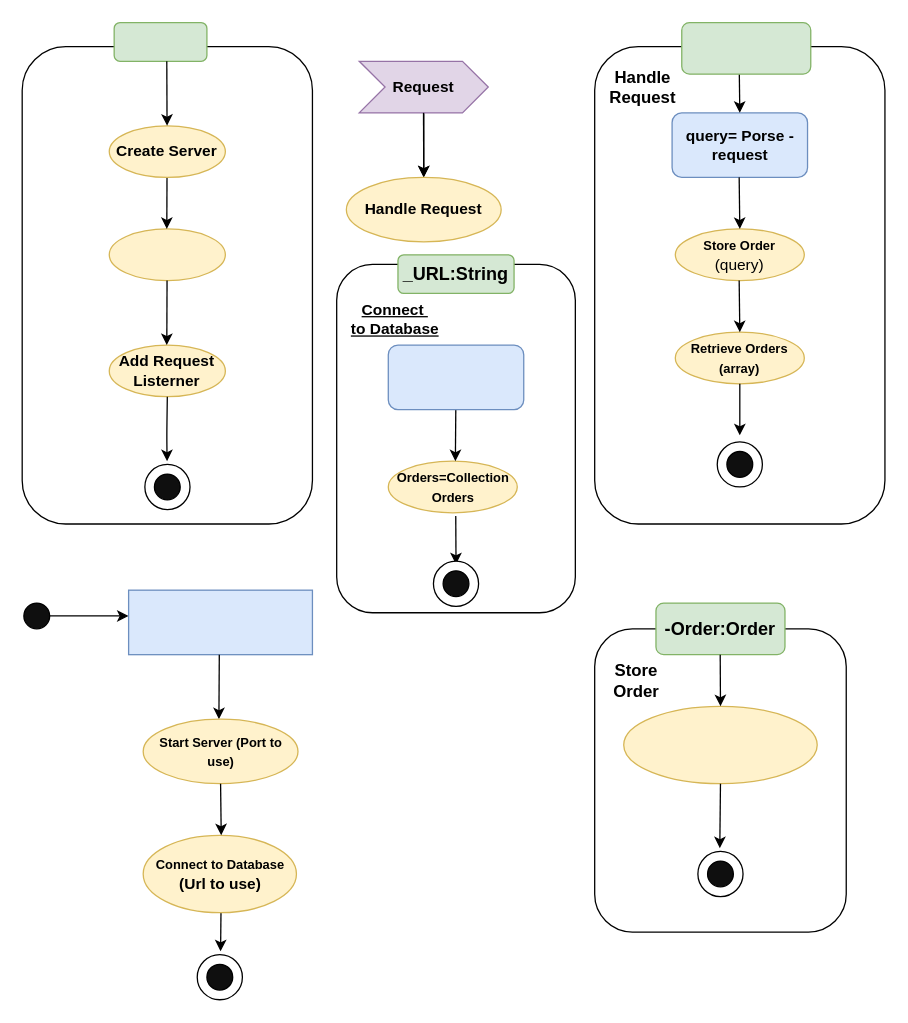
The diagram is 908 pixels wide and 1023 high, and some of its shapes have lost their labels. The shapes that lost their labels are listed below. From the top down, each one's centre as x and y in pixels, then its label:
At (x=160, y=41): "-Port".
At (x=745, y=47): "-Request -Response".
At (x=166, y=254): "Open -Port".
At (x=455, y=377): "Monjoclient= newClient = Url".
At (x=219, y=622): "Orders=Collection".
At (x=719, y=744): "Order .Insert (-Orders)".
